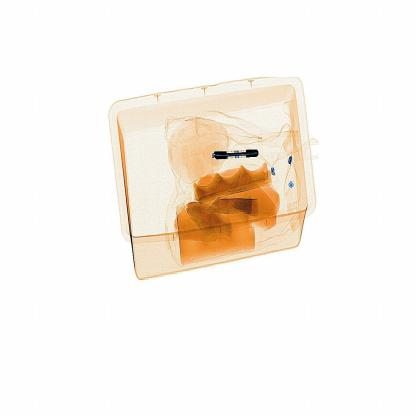knife: (211, 137, 266, 170)
